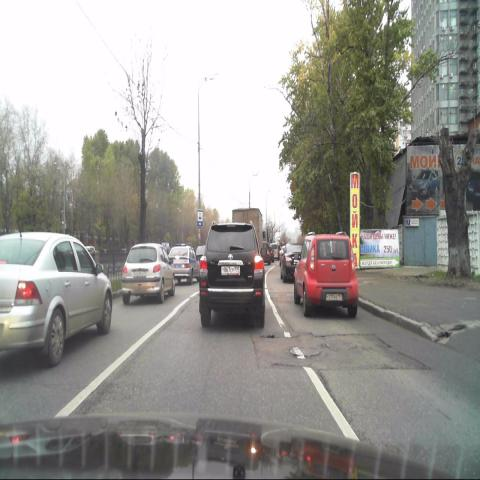7_5: (197, 210, 203, 226)
